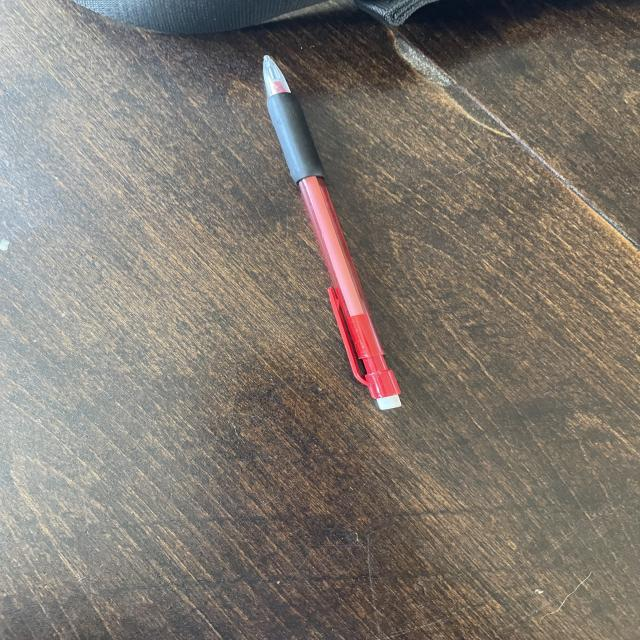mechanical-pencils: (249, 49, 420, 421)
